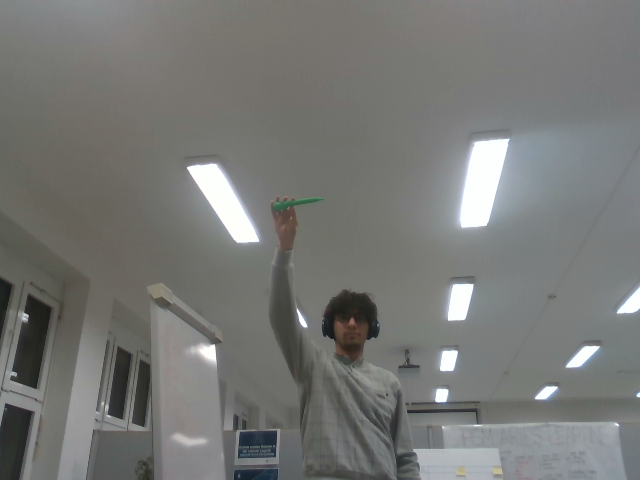Probe: (269, 192, 326, 213)
